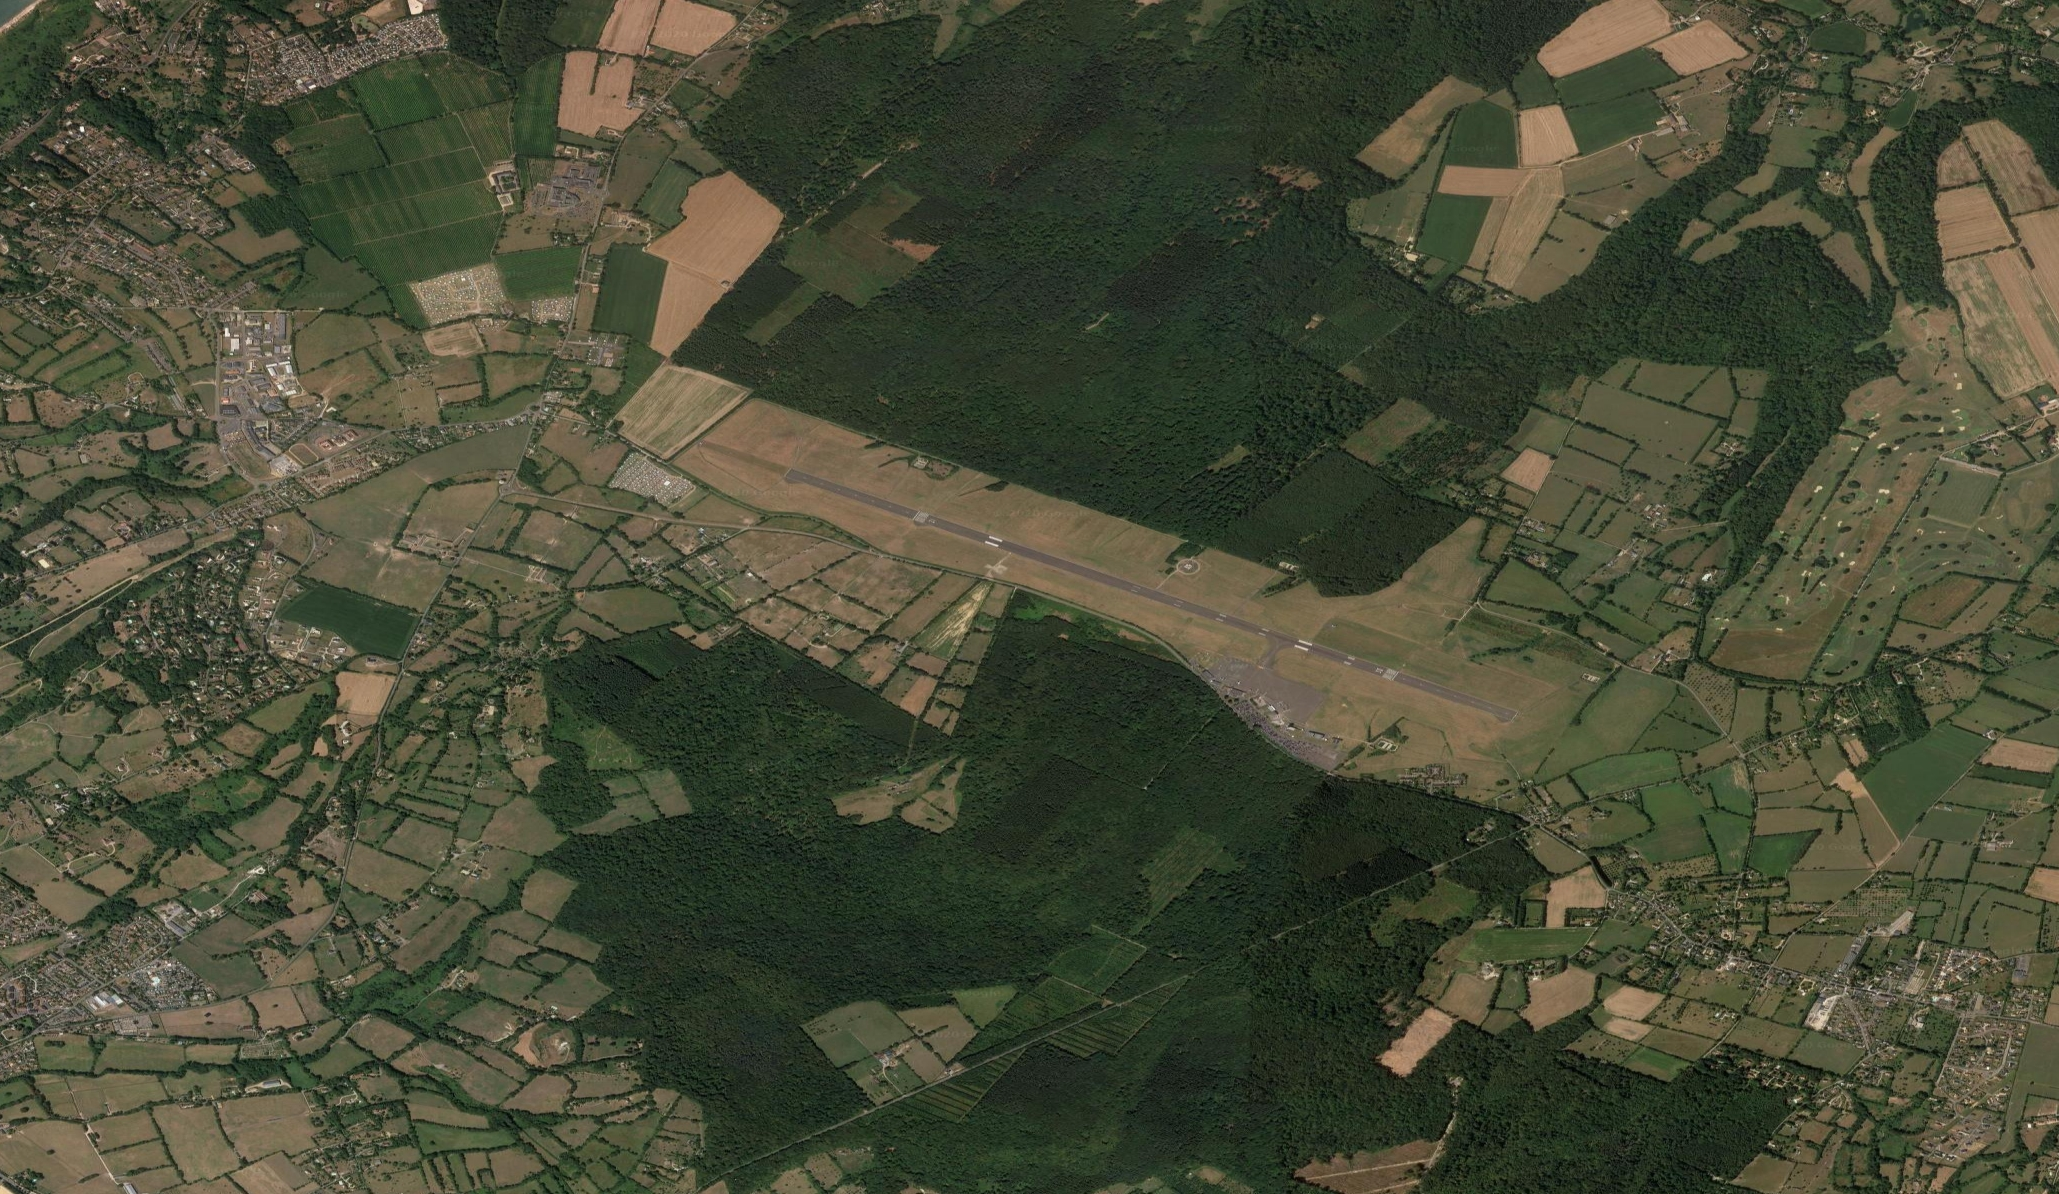airport: (783, 465, 1523, 753)
